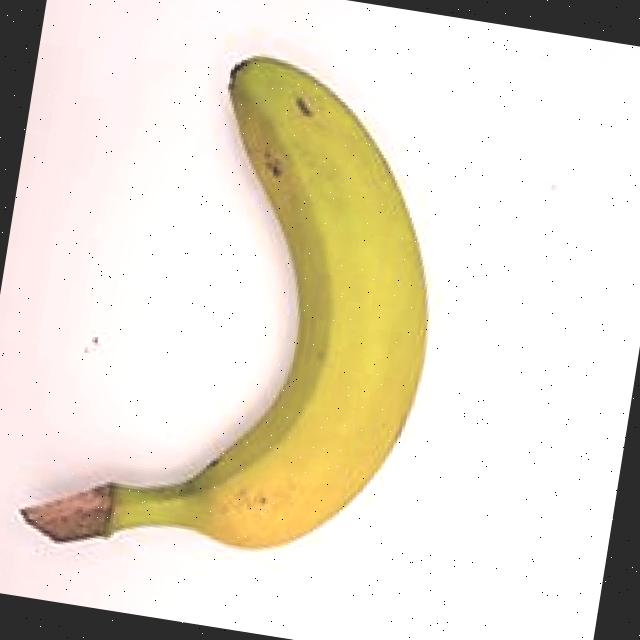Unripe: (0, 0, 478, 619)
